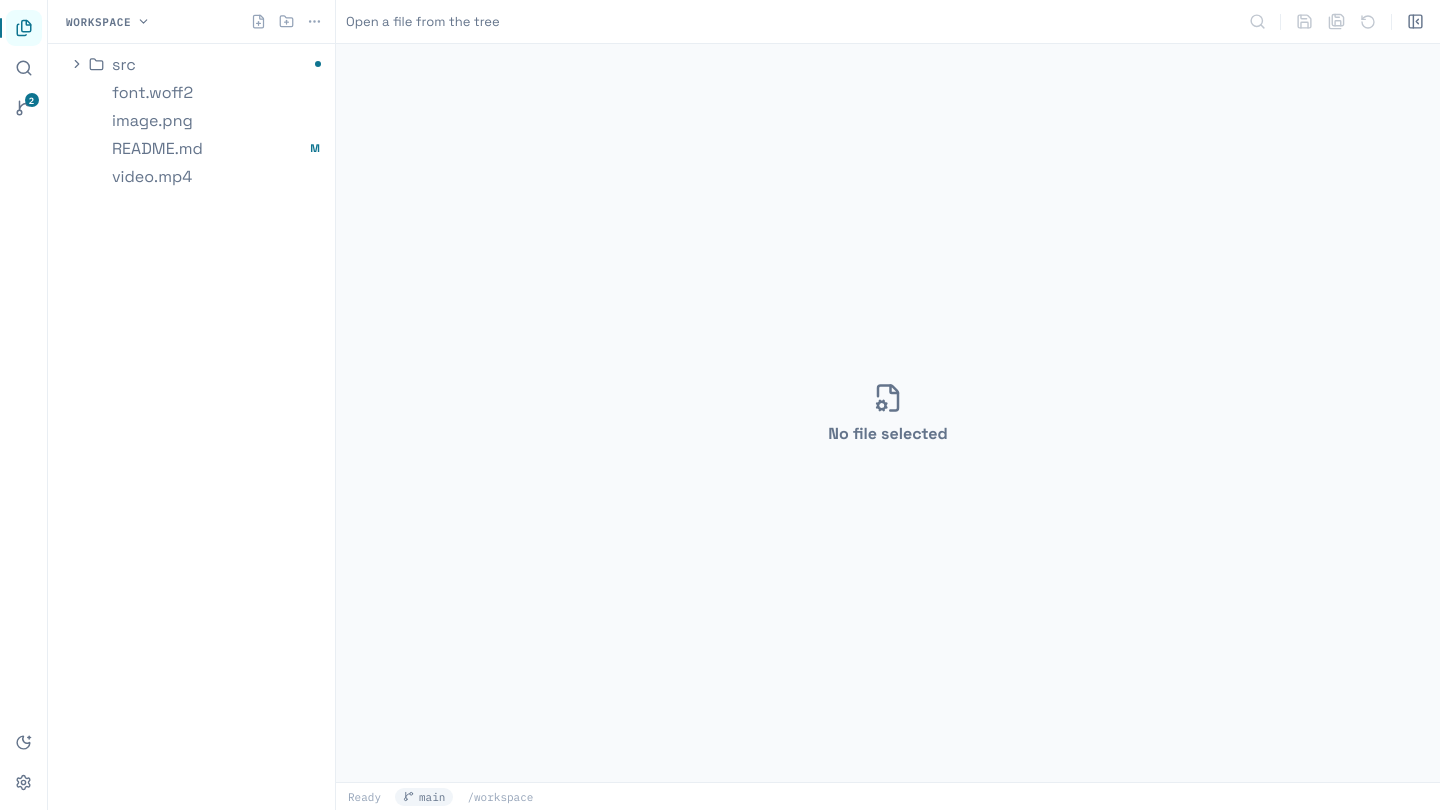
Test: App shell interactions › selects non-text video.mp4 files in the tree without opening an editor tab
Click the list item "video.mp4": (152, 176) [64, 162, 327, 190]
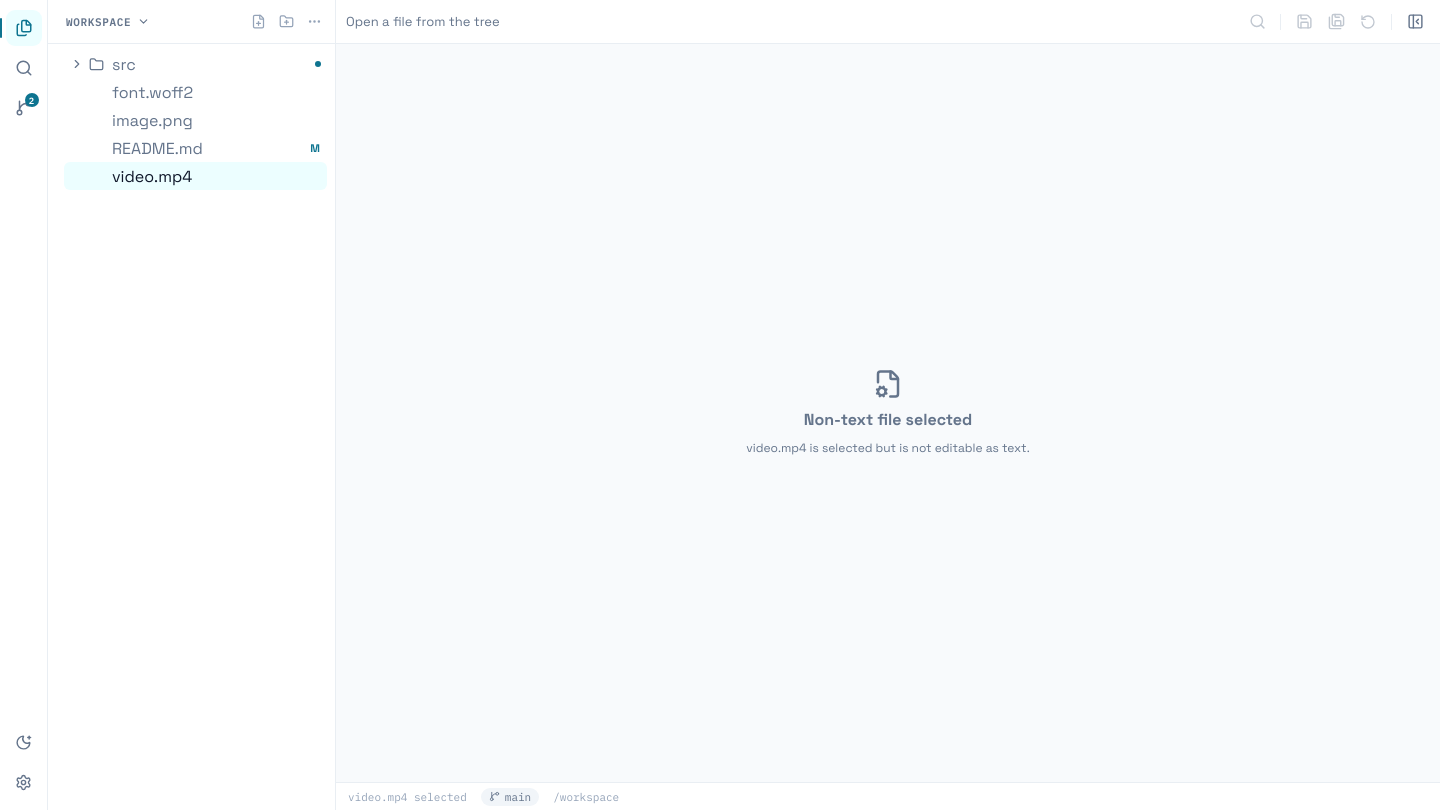
Expected: the text "Open a file from the tree" is shown, [346, 13, 500, 30]
Result: the text "Non-text file selected" is shown at [804, 409, 972, 430]
